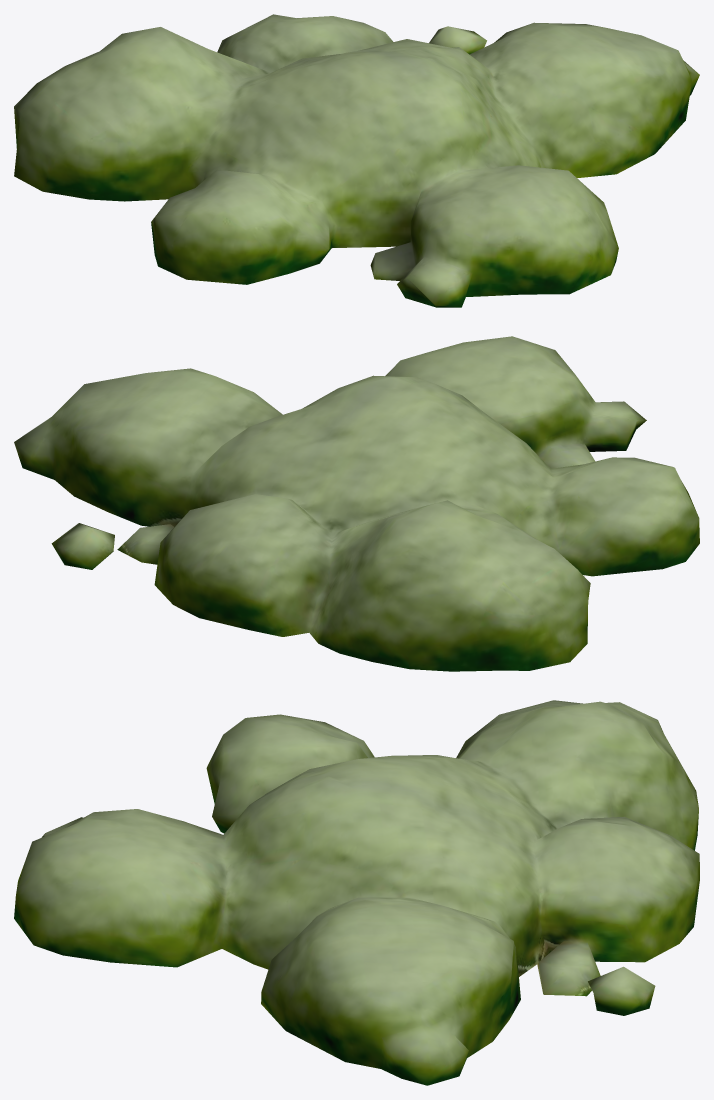
The model's file is moss.glb.
The picture shows the model from 3 angles, top to bottom: view 1: azimuth 30°, elevation 25°; view 2: azimuth 150°, elevation 25°; view 3: azimuth 270°, elevation 25°; orthographic projection. The views are drawn at different scales.
Visible parts, largest first — view 1: moss; view 2: moss; view 3: moss.
Boxes of the visible parts, x1=… form: moss: x1=14, y1=14, x2=699, y2=307; moss: x1=14, y1=336, x2=699, y2=671; moss: x1=14, y1=700, x2=699, y2=1085.
Size of the model in its own units: 0.7373 by 0.1406 by 0.6499.
1 material, 1 textured.
